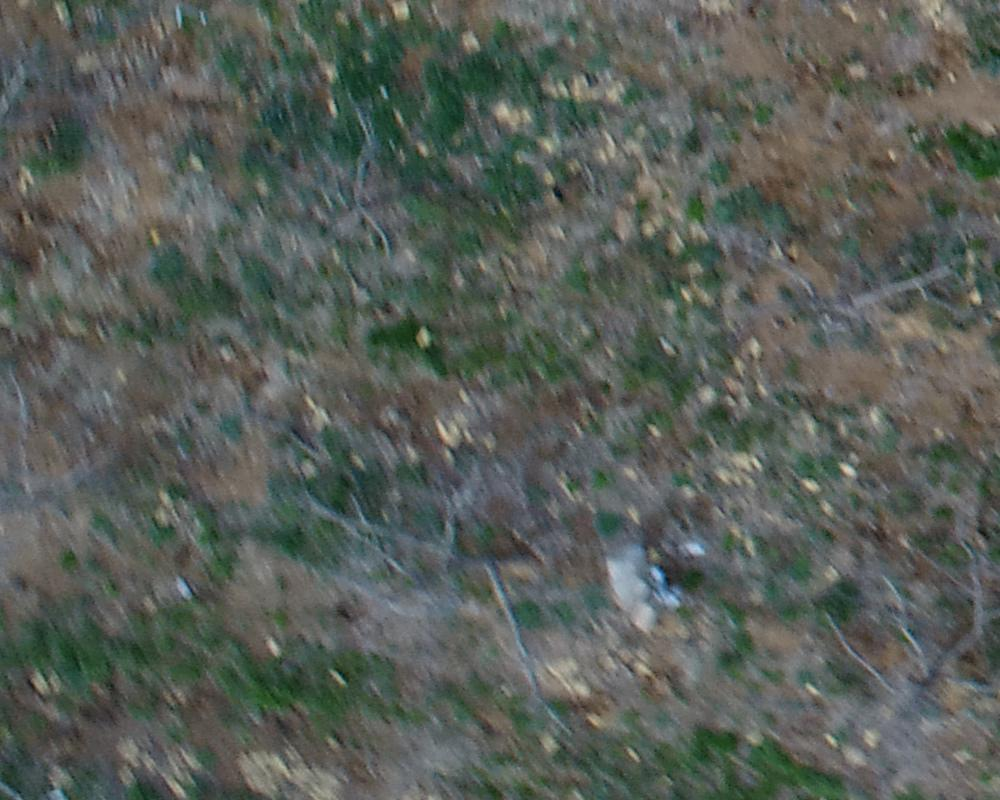apple: (277, 448, 588, 737), (790, 518, 990, 753)
